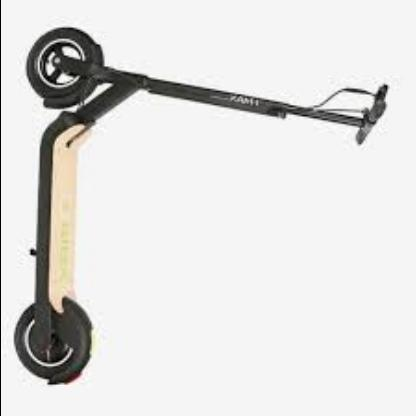bike: (16, 26, 402, 390)
